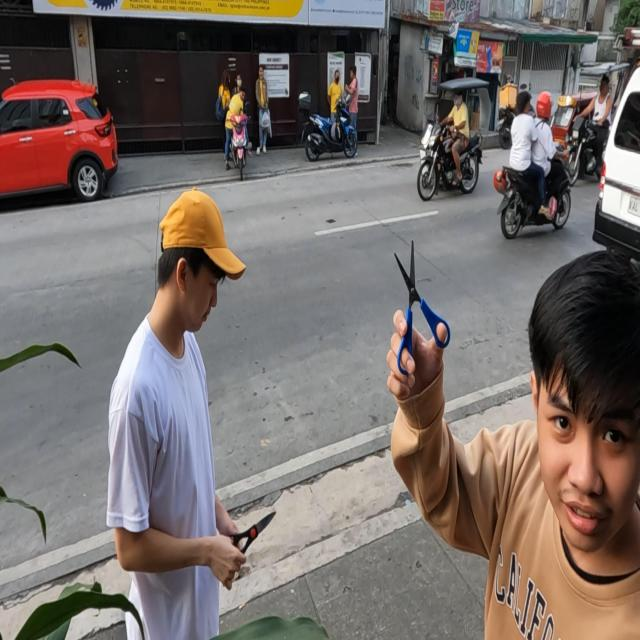scissor: (394, 241, 450, 376), (232, 511, 276, 554)
